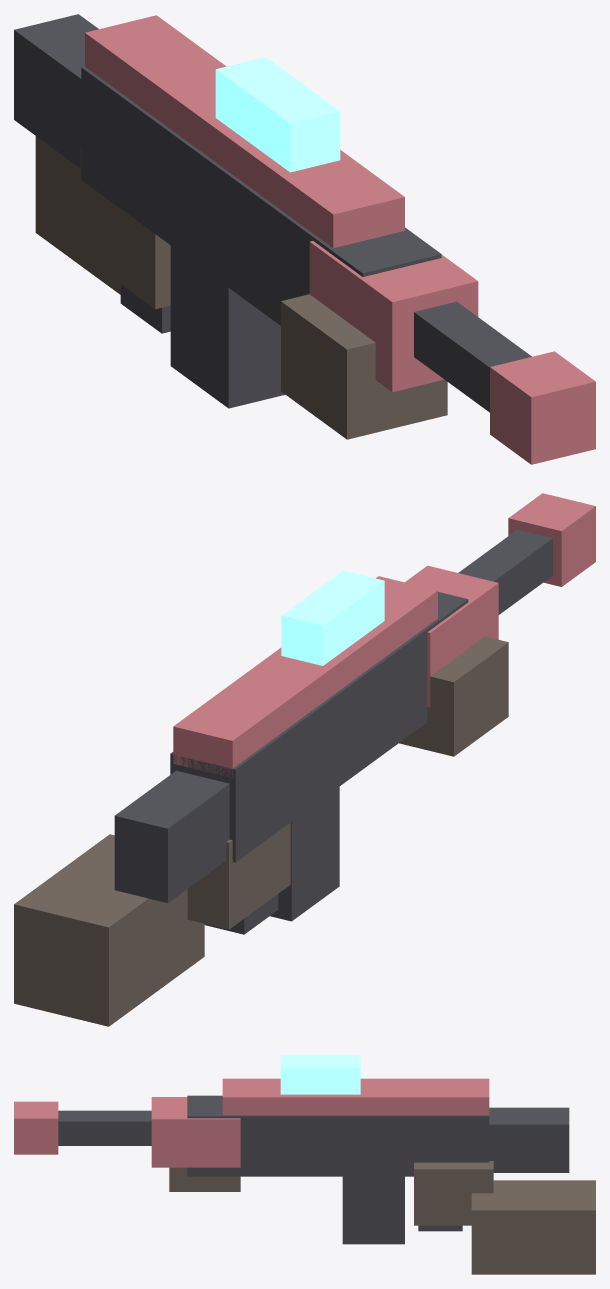
Rendered from viewmodel.glb.
The picture shows the model from 3 angles, top to bottom: view 1: azimuth 30°, elevation 25°; view 2: azimuth 150°, elevation 25°; view 3: azimuth 270°, elevation 25°; orthographic projection. The views are drawn at different scales.
Parts seen in each view (by area): view 1: VmBody, VmUpper, VmHandL, VmMag, VmHandguard, VmSight, VmMuzzle, VmStock, VmHandR, VmBarrel, VmSleeveR, VmGrip; view 2: VmSleeveR, VmBody, VmUpper, VmStock, VmHandL, VmSight, VmHandR, VmMag, VmHandguard, VmMuzzle, VmBarrel, VmGrip; view 3: VmBody, VmSleeveR, VmUpper, VmStock, VmHandguard, VmHandR, VmMag, VmBarrel, VmSight, VmMuzzle, VmHandL, VmGrip.
Part boxes in pixels (x1,y1,x2,y2): VmBody: [81, 66, 441, 325]; VmUpper: [85, 15, 404, 248]; VmHandL: [281, 294, 447, 439]; VmMag: [170, 245, 285, 408]; VmHandguard: [309, 241, 478, 392]; VmSight: [215, 57, 340, 172]; VmMuzzle: [490, 351, 595, 464]; VmStock: [14, 14, 98, 168]; VmHandR: [80, 150, 170, 309]; VmBarrel: [414, 301, 531, 412]; VmSleeveR: [35, 136, 120, 294]; VmGrip: [120, 284, 170, 333]; VmSleeveR: [14, 834, 204, 1026]; VmBody: [170, 592, 468, 862]; VmUpper: [173, 576, 437, 777]; VmStock: [114, 770, 229, 902]; VmHandL: [399, 636, 508, 756]; VmSight: [281, 570, 384, 665]; VmHandR: [187, 822, 290, 929]; VmMag: [270, 787, 339, 921]; VmHandguard: [405, 565, 498, 707]; VmMuzzle: [508, 493, 595, 586]; VmBarrel: [458, 529, 552, 614]; VmGrip: [204, 894, 278, 934]; VmBody: [187, 1095, 489, 1176]; VmSleeveR: [471, 1180, 595, 1274]; VmUpper: [222, 1078, 489, 1115]; VmStock: [489, 1107, 569, 1172]; VmHandguard: [151, 1097, 240, 1167]; VmHandR: [414, 1161, 493, 1225]; VmMag: [342, 1176, 404, 1244]; VmBarrel: [58, 1110, 151, 1145]; VmSight: [280, 1055, 360, 1094]; VmMuzzle: [14, 1101, 58, 1154]; VmHandL: [169, 1167, 240, 1191]; VmGrip: [418, 1225, 462, 1231].
Size of the model in its own units: 0.14 by 0.2225 by 0.655.
